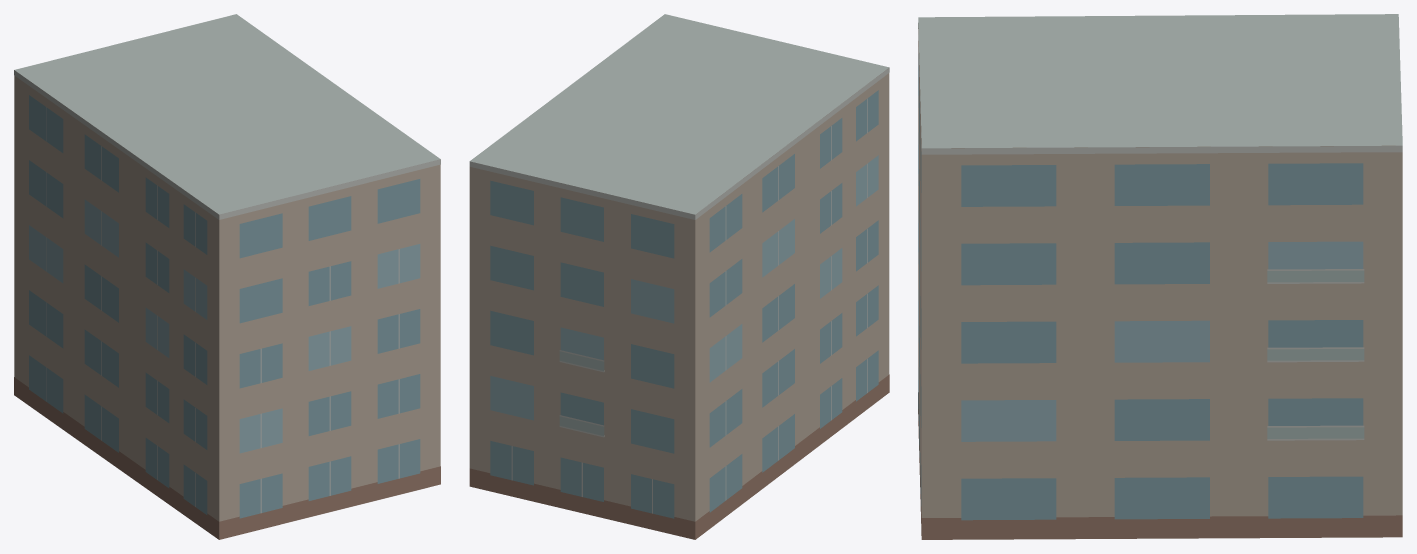
The model's file is survey-upis-32490638.glb.
3 renders of one model, left to right at view 1: azimuth 30°, elevation 25°; view 2: azimuth 150°, elevation 25°; view 3: azimuth 270°, elevation 25°, orthographic. The views are drawn at different scales.
Visible parts, largest first — view 1: survey-upis-32490638.tmp; view 2: survey-upis-32490638.tmp; view 3: survey-upis-32490638.tmp.
Part boxes in pixels (<box>): survey-upis-32490638.tmp: <box>14,14,440,539</box>; survey-upis-32490638.tmp: <box>469,14,889,539</box>; survey-upis-32490638.tmp: <box>918,14,1402,539</box>.
Size of the model in its own units: 10.86 by 14.75 by 16.56.
